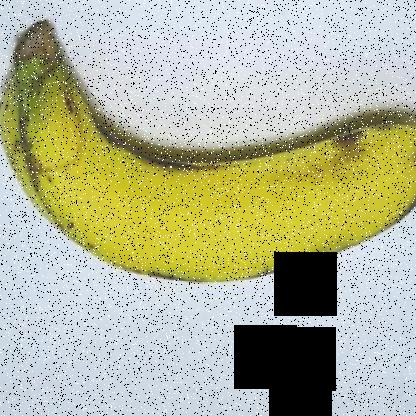freshripe: (1, 21, 415, 300)
